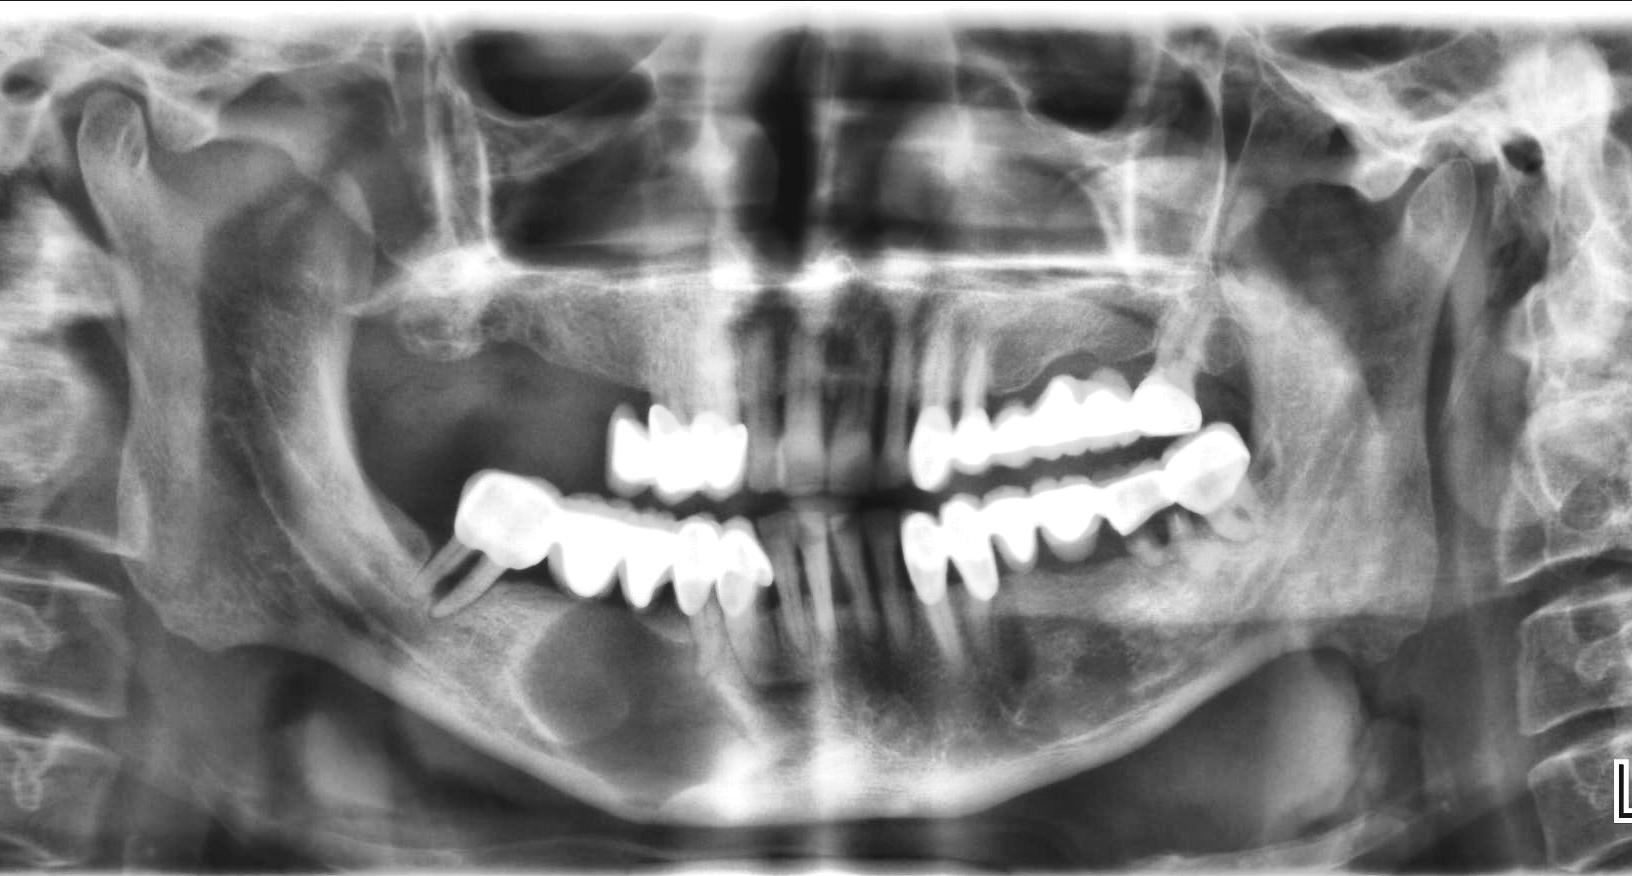radikuler: (516, 600, 750, 809)
